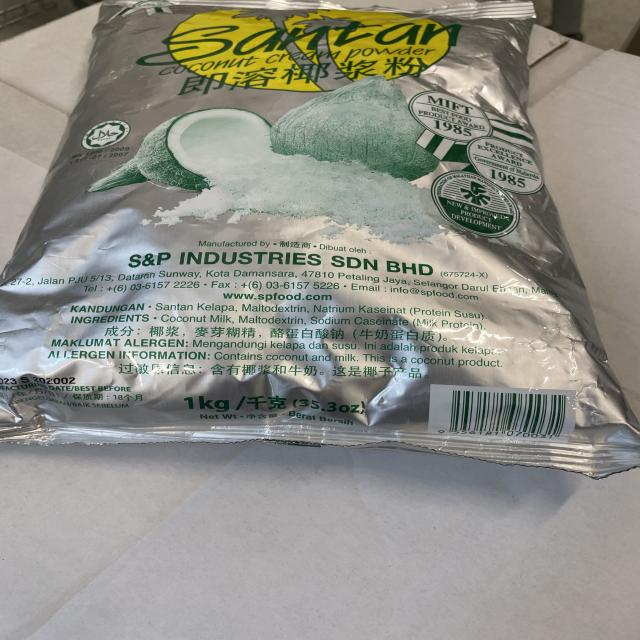object_name: (13, 5, 606, 462)
